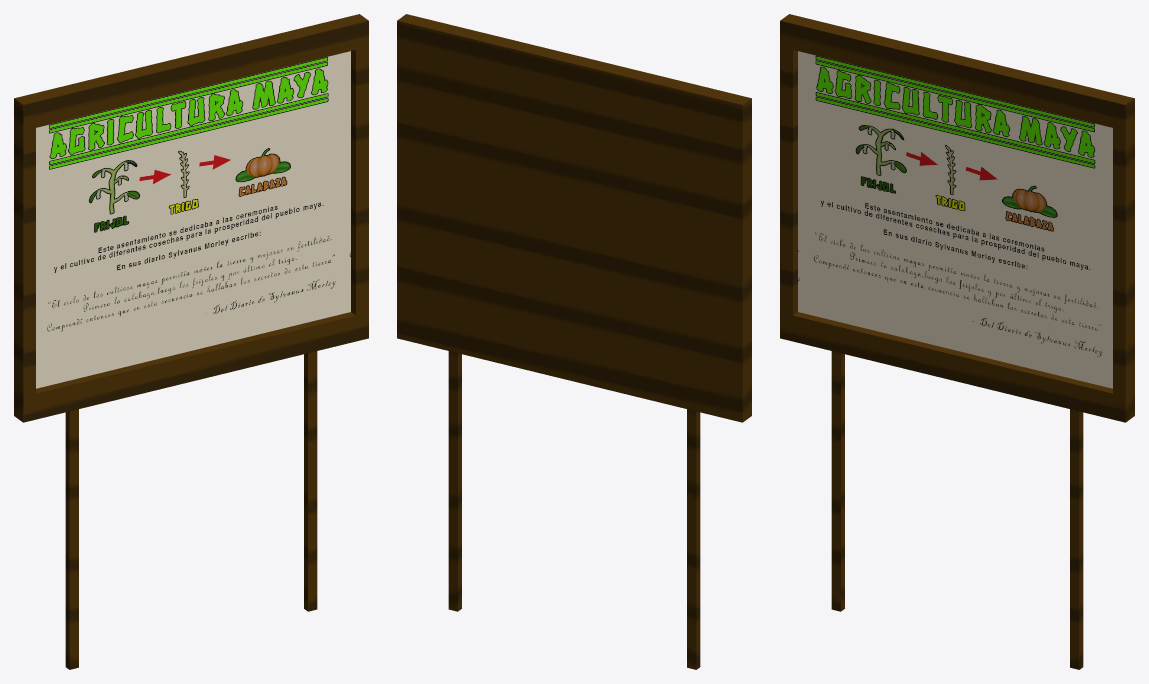
Rendered from Futuro_Cartel_Info_Cultivo.glb.
The picture shows the model from 3 angles, left to right: view 1: azimuth 30°, elevation 25°; view 2: azimuth 150°, elevation 25°; view 3: azimuth 330°, elevation 25°; orthographic projection.
Parts seen in each view (by area): view 1: Cartel_Moderno.001, Cartel_Moderno; view 2: Cartel_Moderno; view 3: Cartel_Moderno.001, Cartel_Moderno.
Boxes of the visible parts, x1=… form: Cartel_Moderno.001: x1=36, y1=51, x2=350, y2=388; Cartel_Moderno: x1=14, y1=14, x2=368, y2=669; Cartel_Moderno: x1=397, y1=14, x2=751, y2=669; Cartel_Moderno.001: x1=798, y1=51, x2=1112, y2=388; Cartel_Moderno: x1=780, y1=14, x2=1134, y2=669.
Bounding box in the file's own units: 2.27 × 3.64 × 0.1049.
2 materials, 2 textured.
